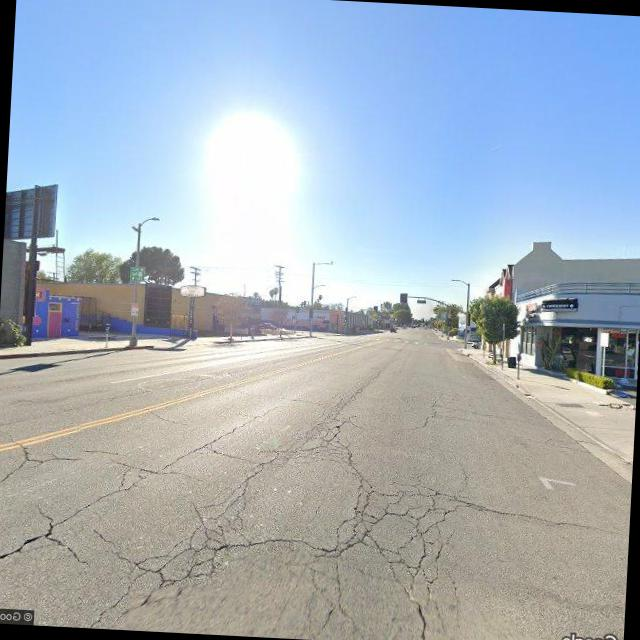crack: (2, 369, 528, 636)
